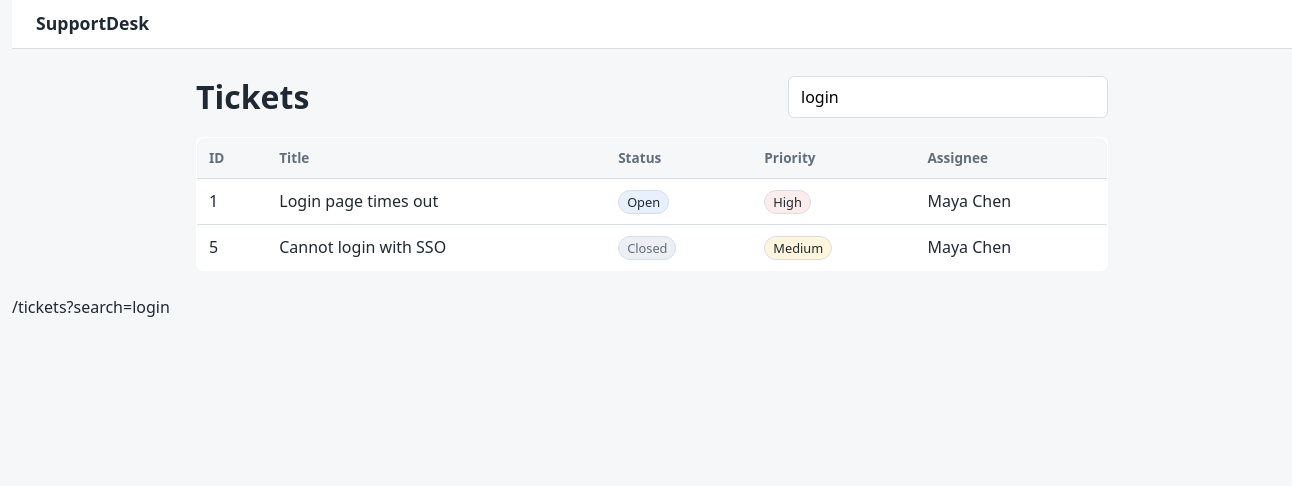
Test: TicketList › opens the ticket details with the current search
Step 1. Click the row with test id "ticket-row-5" → (652, 247), box [196,224,1108,270]
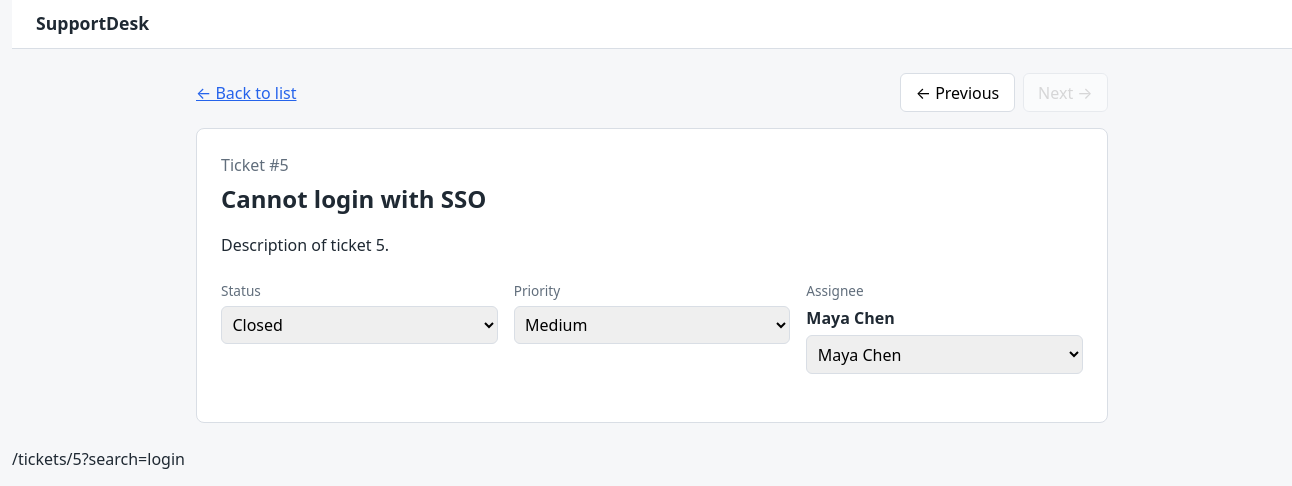
Now the text with test id "location" reads "/tickets/5?search=login", box [12,448,185,470]
